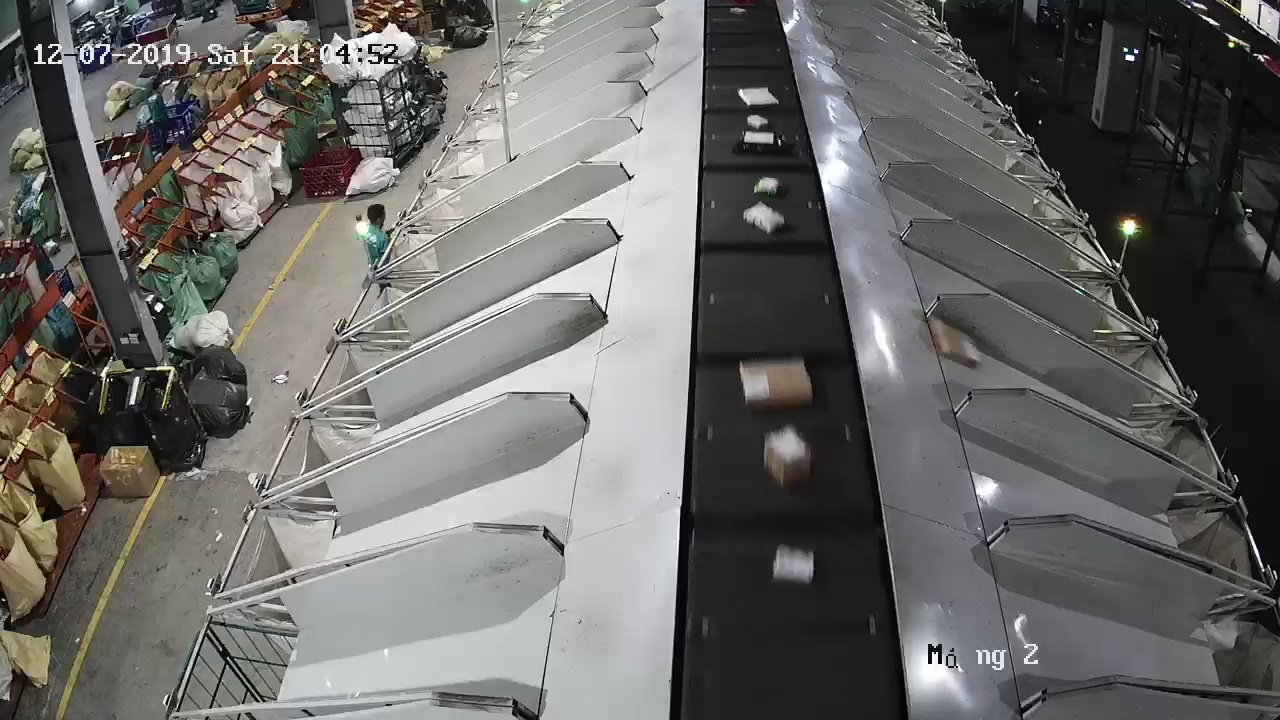parcel: (928, 316, 981, 369)
